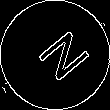N_SW: (23, 23, 87, 87)
